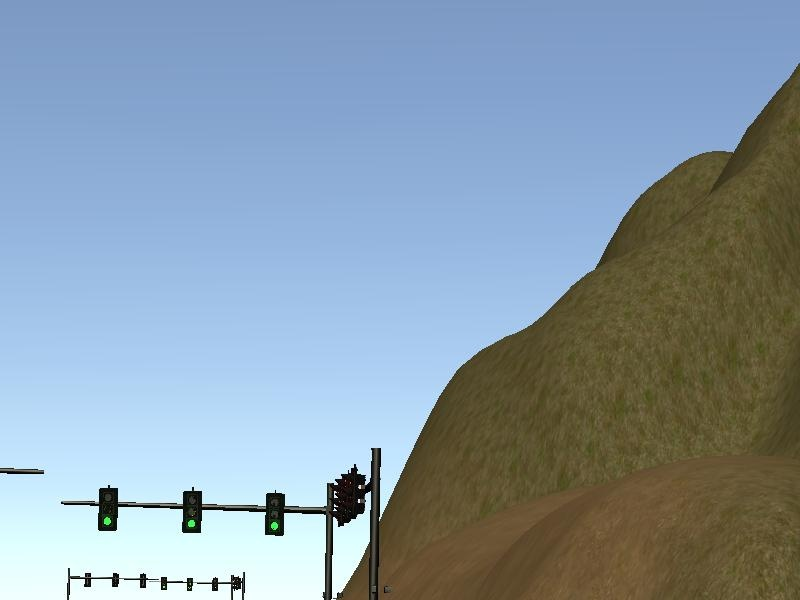green: (98, 488, 120, 532), (266, 494, 286, 538), (183, 490, 203, 534), (212, 577, 220, 592), (187, 578, 194, 591), (162, 577, 168, 591)
